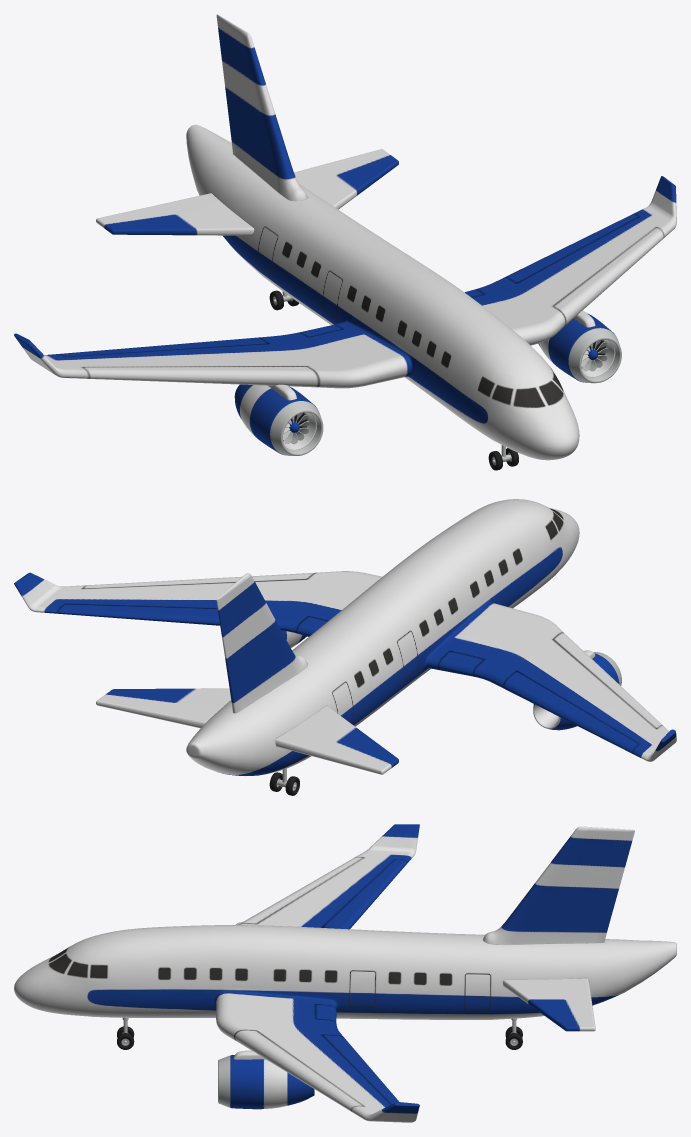
Rendered from pesawat3d-compressed.glb.
3 renders of one model, top to bottom at view 1: azimuth 30°, elevation 25°; view 2: azimuth 150°, elevation 25°; view 3: azimuth 270°, elevation 25°, orthographic. The views are drawn at different scales.
Parts seen in each view (by area): view 1: airplane_jet_1_base_stylized_lod0; view 2: airplane_jet_1_base_stylized_lod0; view 3: airplane_jet_1_base_stylized_lod0.
Boxes of the visible parts, left/top/right/bottom form: airplane_jet_1_base_stylized_lod0: left=14, top=14, right=676, bottom=470; airplane_jet_1_base_stylized_lod0: left=14, top=499, right=676, bottom=795; airplane_jet_1_base_stylized_lod0: left=14, top=824, right=676, bottom=1122.
Bounding box in the file's own units: 0.3401 × 0.1234 × 0.3385.
1 material, 1 textured.
